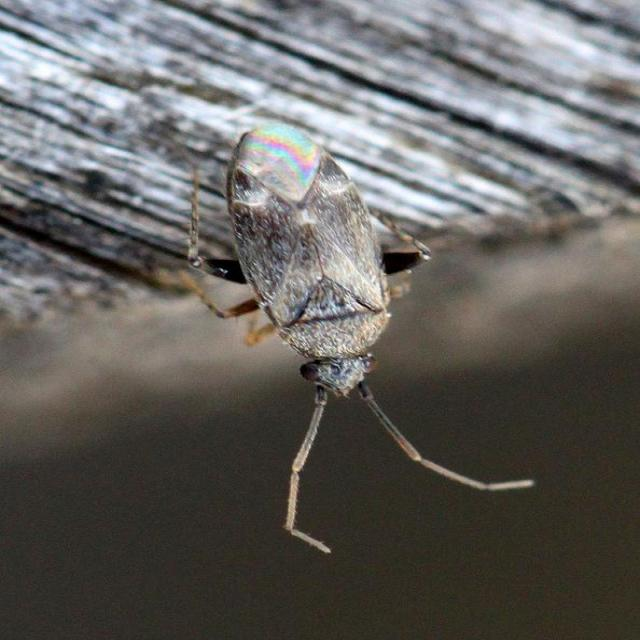Miridae-Adult-: (144, 110, 524, 538)
